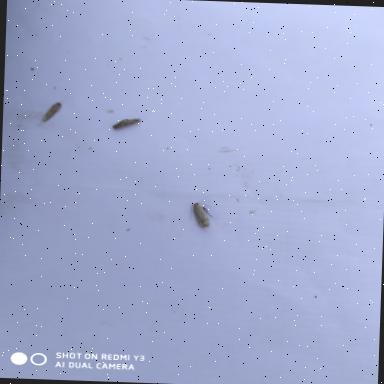pbw: (183, 198, 217, 232), (28, 97, 66, 126), (106, 114, 151, 132)
